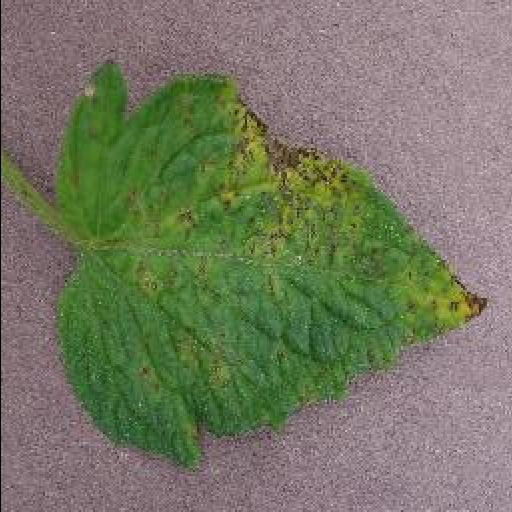disease_tomato: (56, 54, 488, 474)
